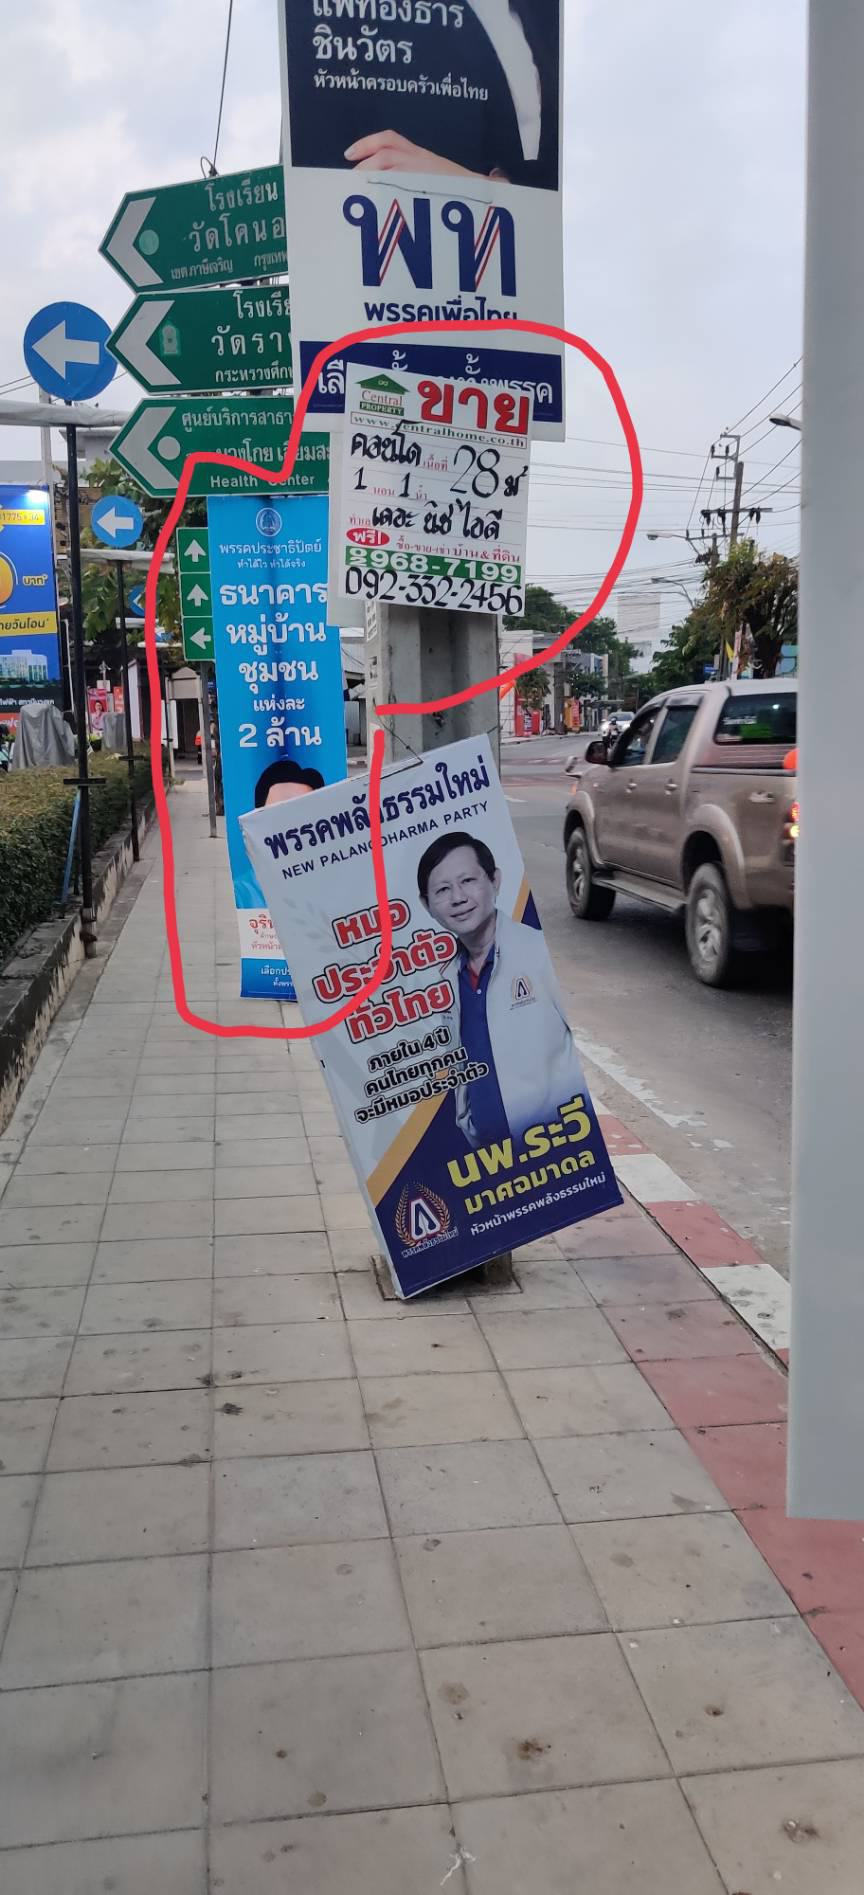Banner: (242, 730, 622, 1244), (186, 486, 337, 1008)
